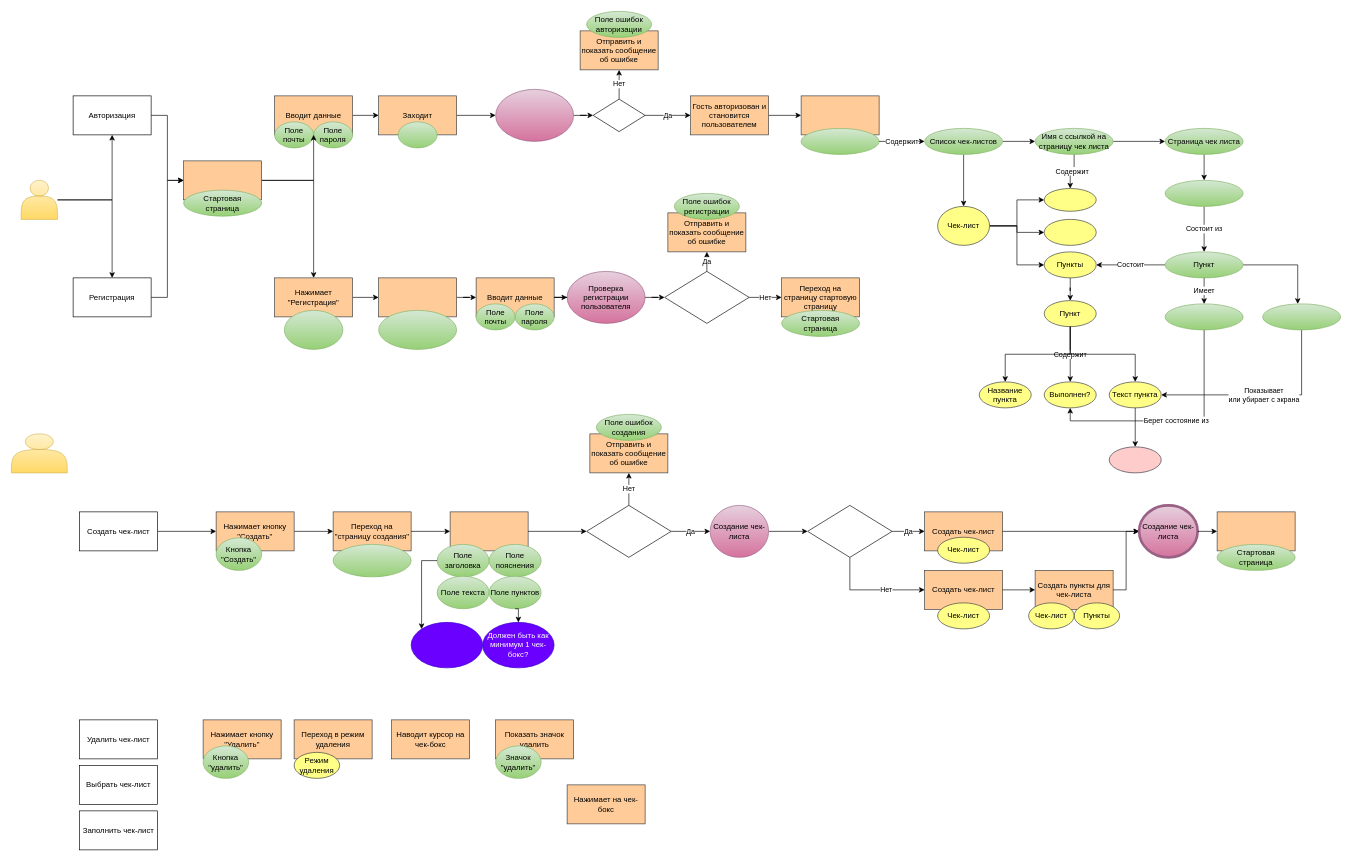
Some shapes in this 1352 by 861 pixel diagram are drawn without their labels. The shapes that lost their labels are listed below. From the top down, each one's box as (x1, y1, x2, y2) in pixels, then its label:
(397, 121, 437, 148): Кнопка "Войти"
(495, 89, 574, 141): Проверка авторизации пользователя
(592, 98, 645, 132): Корректны?
(800, 95, 879, 135): Переход на глувную страницу
(800, 128, 879, 154): Главная страница
(20, 180, 58, 219): Гость
(183, 160, 262, 200): Вход на стартовую страницу
(1044, 188, 1096, 211): Заголовок
(1164, 180, 1243, 206): Список пунктов
(1044, 219, 1096, 245): Пояснение
(378, 277, 457, 317): Переход на страницу регистрации
(664, 271, 749, 323): С такой почтой уже зарегистрирован?
(1164, 303, 1243, 330): Чек-бокс
(1262, 303, 1341, 330): Кнопка "Подробнее"
(284, 310, 343, 349): Кнопка "Регистрация"
(378, 310, 457, 349): Страница регистрации
(11, 433, 67, 473): Пользователь
(1109, 446, 1161, 473): В виде html
(449, 511, 528, 551): Заполняет поля
(586, 505, 671, 557): Поля заголовка, пояснения, текста заполнены?
(807, 505, 892, 557): Поле пунктов пустое?
(1216, 511, 1295, 551): Переход на стартовую страницу
(332, 544, 411, 577): Страница создания чек-листа
(410, 622, 483, 668): Может повторяться?
